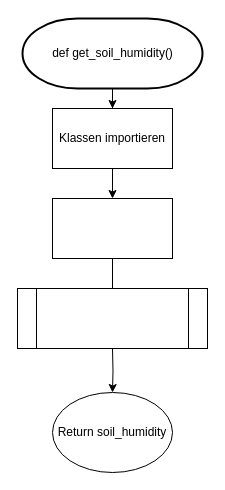
Some shapes in this 225 by 490 pixel diagram are drawn without their labels. The box of each missing label's shape, as (x1, y1, x2, y2) in pixels:
Erdfeuchtigkeitssensor messen: (16, 288, 208, 348)
Variablen deklarieren: (52, 198, 172, 258)
